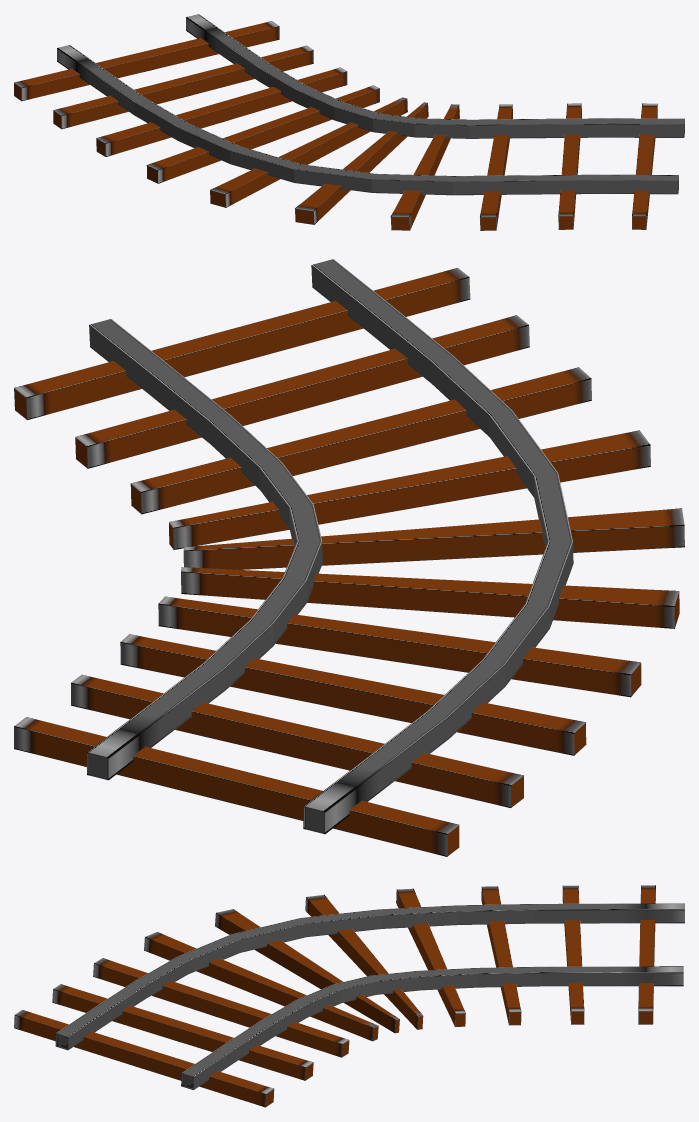
The model's file is traintrack-bend.fbx.
3 views of the same model, one above another, from view 1: azimuth 30°, elevation 25°; view 2: azimuth 150°, elevation 25°; view 3: azimuth 270°, elevation 25° (orthographic). The views are drawn at different scales.
Visible parts, largest first — view 1: Cube.002; view 2: Cube.002; view 3: Cube.002.
Boxes of the visible parts, x1,y1,x2,y2 form: Cube.002: (14,14,684,230); Cube.002: (14,259,684,856); Cube.002: (14,885,684,1107).
Size of the model in its own units: 701 by 66.61 by 902.
